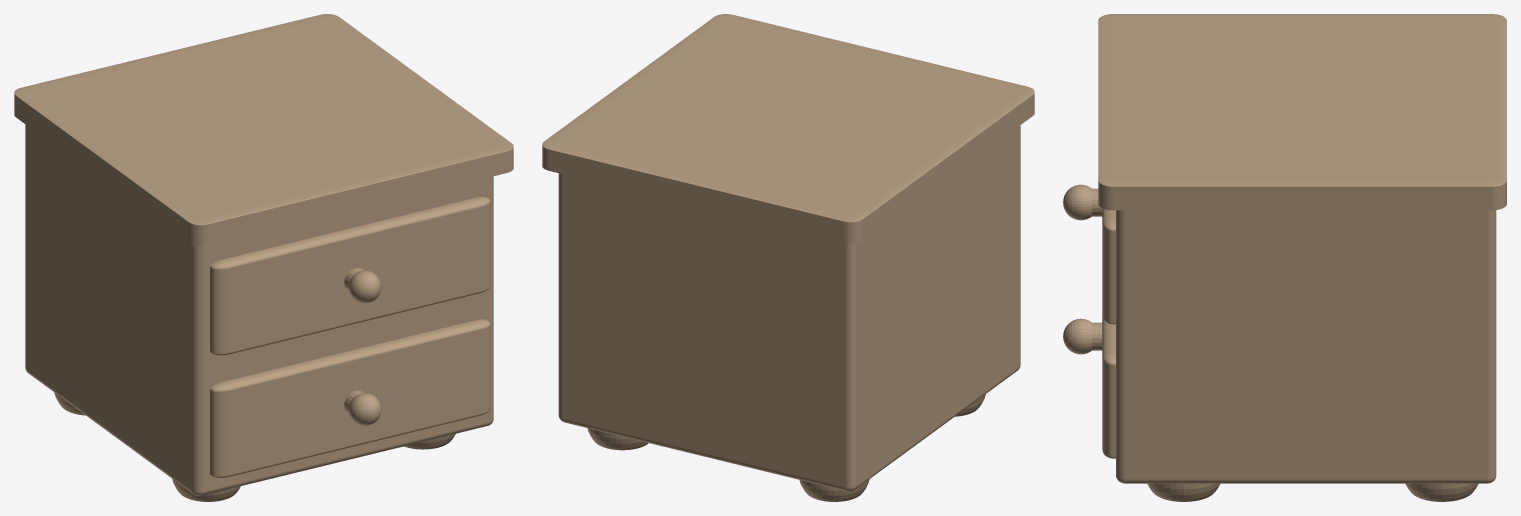
File: Copy of Bedside Table.glb
3 views of the same model, side by side, from view 1: azimuth 30°, elevation 25°; view 2: azimuth 150°, elevation 25°; view 3: azimuth 270°, elevation 25° (orthographic). The views are drawn at different scales.
Visible parts, largest first — view 1: Mesh_Mesh_head_geo.001_lambert2SG.001; view 2: Mesh_Mesh_head_geo.001_lambert2SG.001; view 3: Mesh_Mesh_head_geo.001_lambert2SG.001.
Part boxes in pixels (bbox=[...]): Mesh_Mesh_head_geo.001_lambert2SG.001: bbox=[14, 14, 513, 501]; Mesh_Mesh_head_geo.001_lambert2SG.001: bbox=[542, 14, 1034, 501]; Mesh_Mesh_head_geo.001_lambert2SG.001: bbox=[1063, 14, 1506, 501].
Size of the model in its own units: 0.0211 by 0.0189 by 0.0229.
